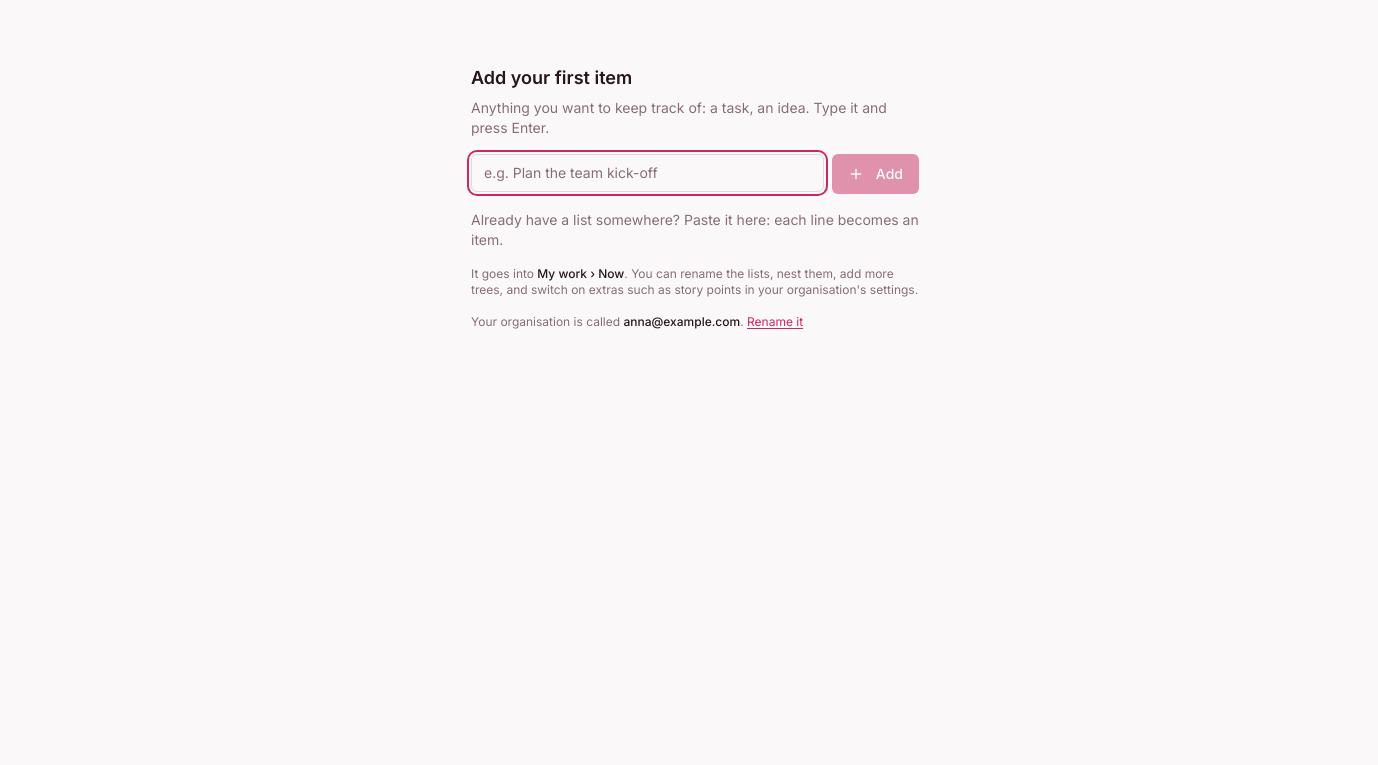
the first-item prompt › adds the item to the first list and opens that list
Type "  Plan the kick-off  " into the text box named "First item".
click(647, 173); type("  Plan the kick-off  ")  # box [471, 154, 824, 192]
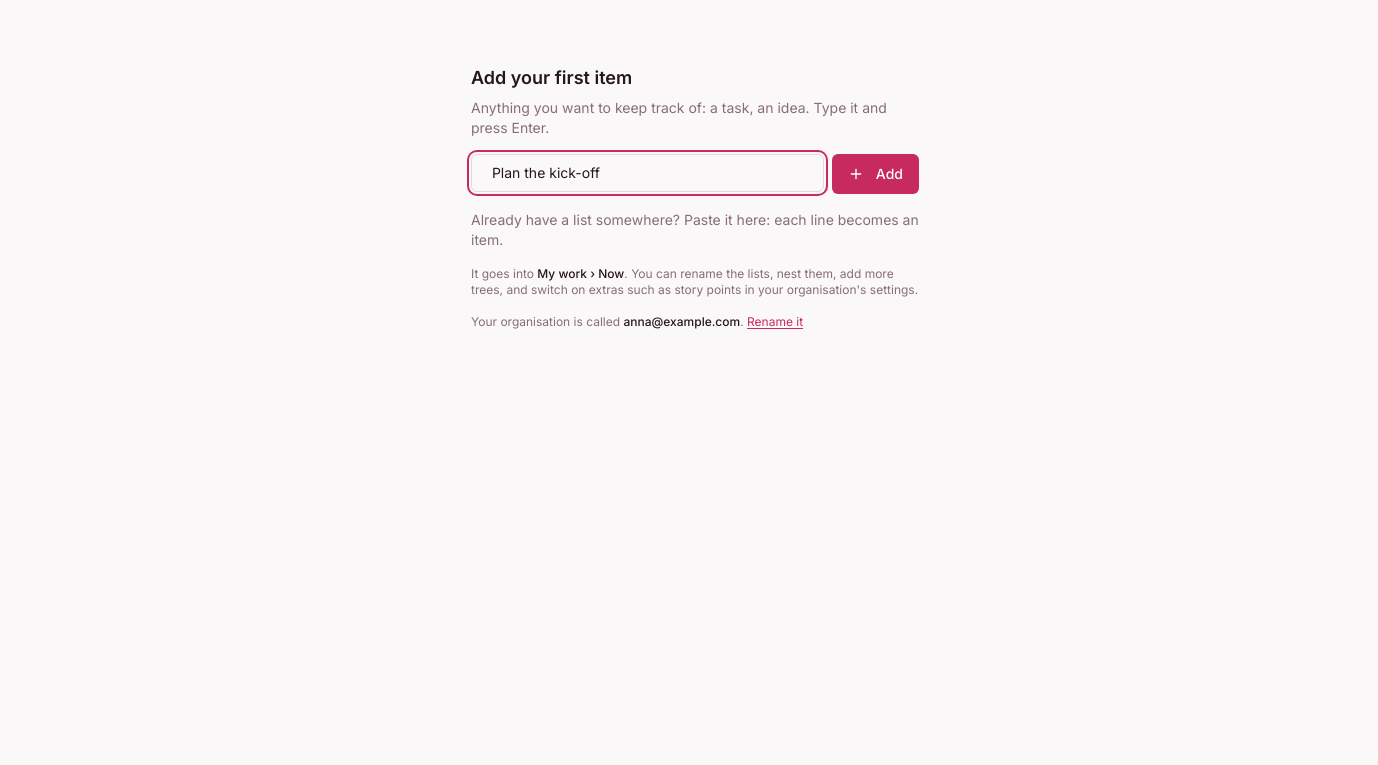
Submit the form named "First item", box [471, 154, 919, 194]
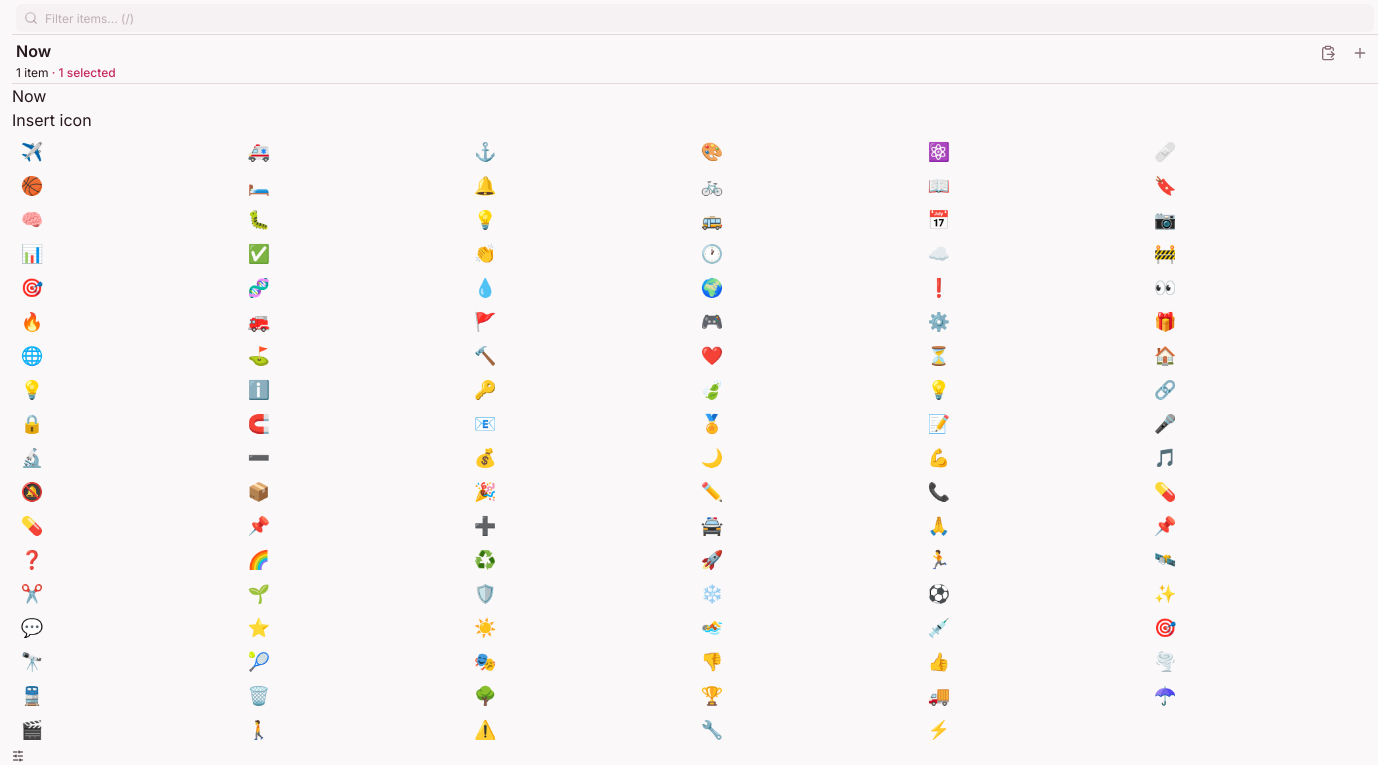
Expected: the heading "Add your first item" is gone
Expected: the dropdown with placeholder "Filter items... (/)" is shown, [16, 4, 1374, 32]
